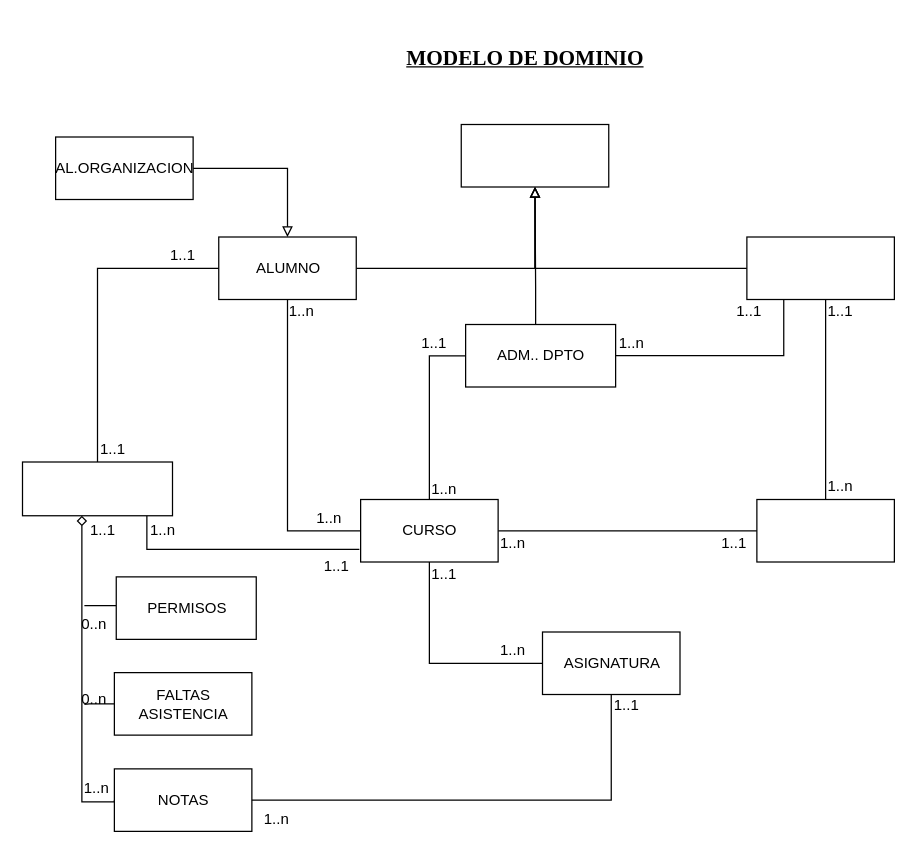
The diagram is 916 pixels wide and 854 high, and some of its shapes have lost their labels. The shapes that lost their labels are listed below. From the top down, each one's centre as x and y in pixels, then its label:
At pixel 534 155: "USUARIO".
At pixel 820 268: "ADM. SISTEMA".
At pixel 96 488: "EXPEDIENTE".
At pixel 825 530: "DEPARTAMENTO".
